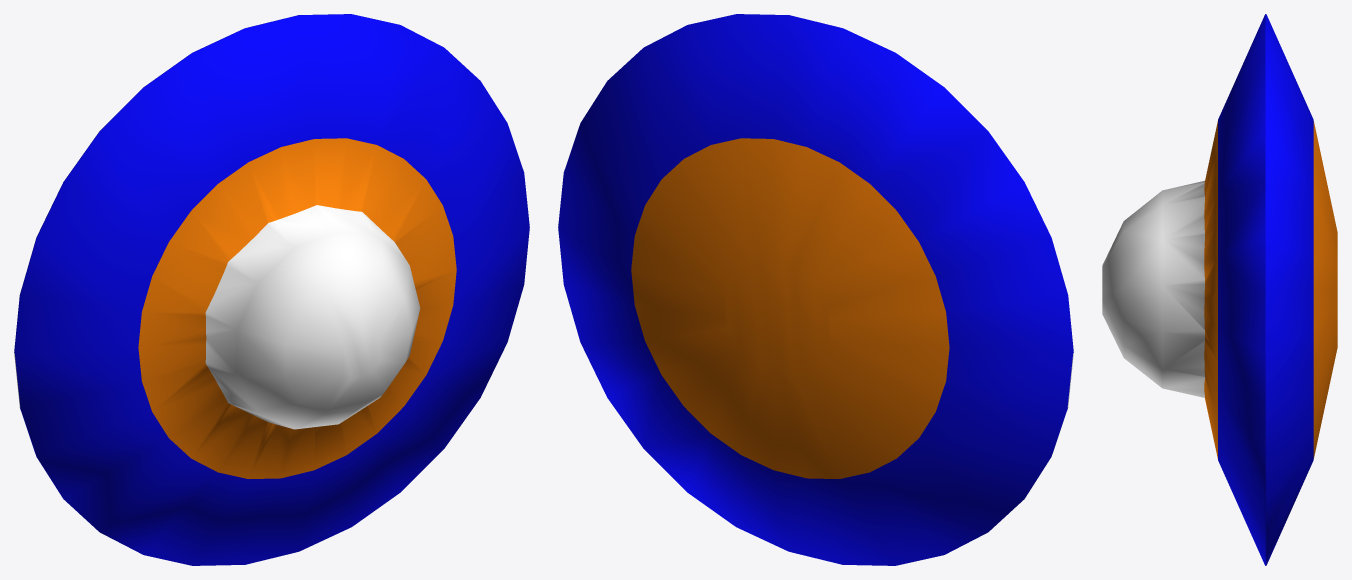
The model's file is Saucer.dae.
The picture shows the model from 3 angles, left to right: view 1: azimuth 30°, elevation 25°; view 2: azimuth 150°, elevation 25°; view 3: azimuth 270°, elevation 25°; orthographic projection. The views are drawn at different scales.
Visible parts, largest first — view 1: meshU3D; view 2: meshU3D; view 3: meshU3D.
Part boxes in pixels (x1,y1,x2,y2): meshU3D: (14, 14, 529, 565); meshU3D: (558, 14, 1073, 565); meshU3D: (1102, 14, 1337, 565).
Size of the model in its own units: 10 by 9.95 by 4.25.
